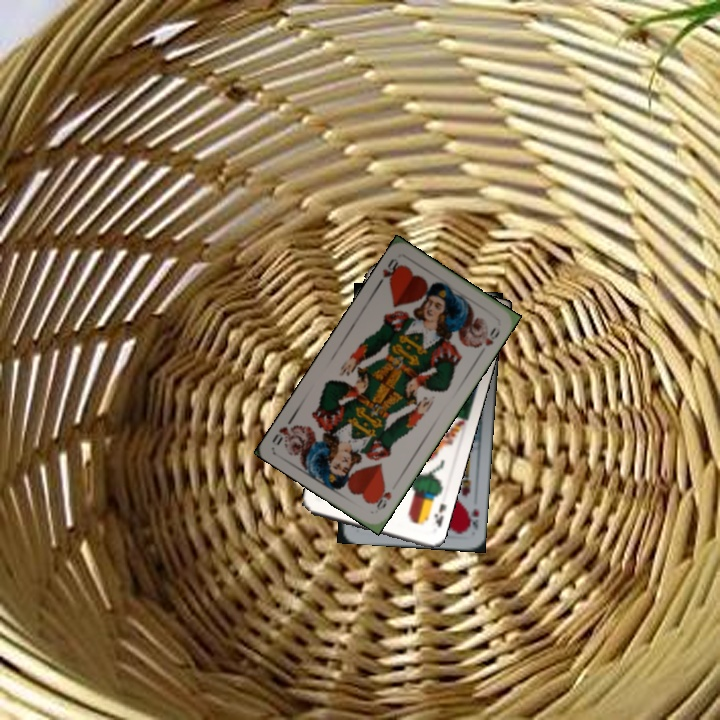EK: (430, 500, 449, 530)
HK: (462, 505, 482, 534)
HO: (373, 255, 404, 290), (370, 482, 394, 514)
